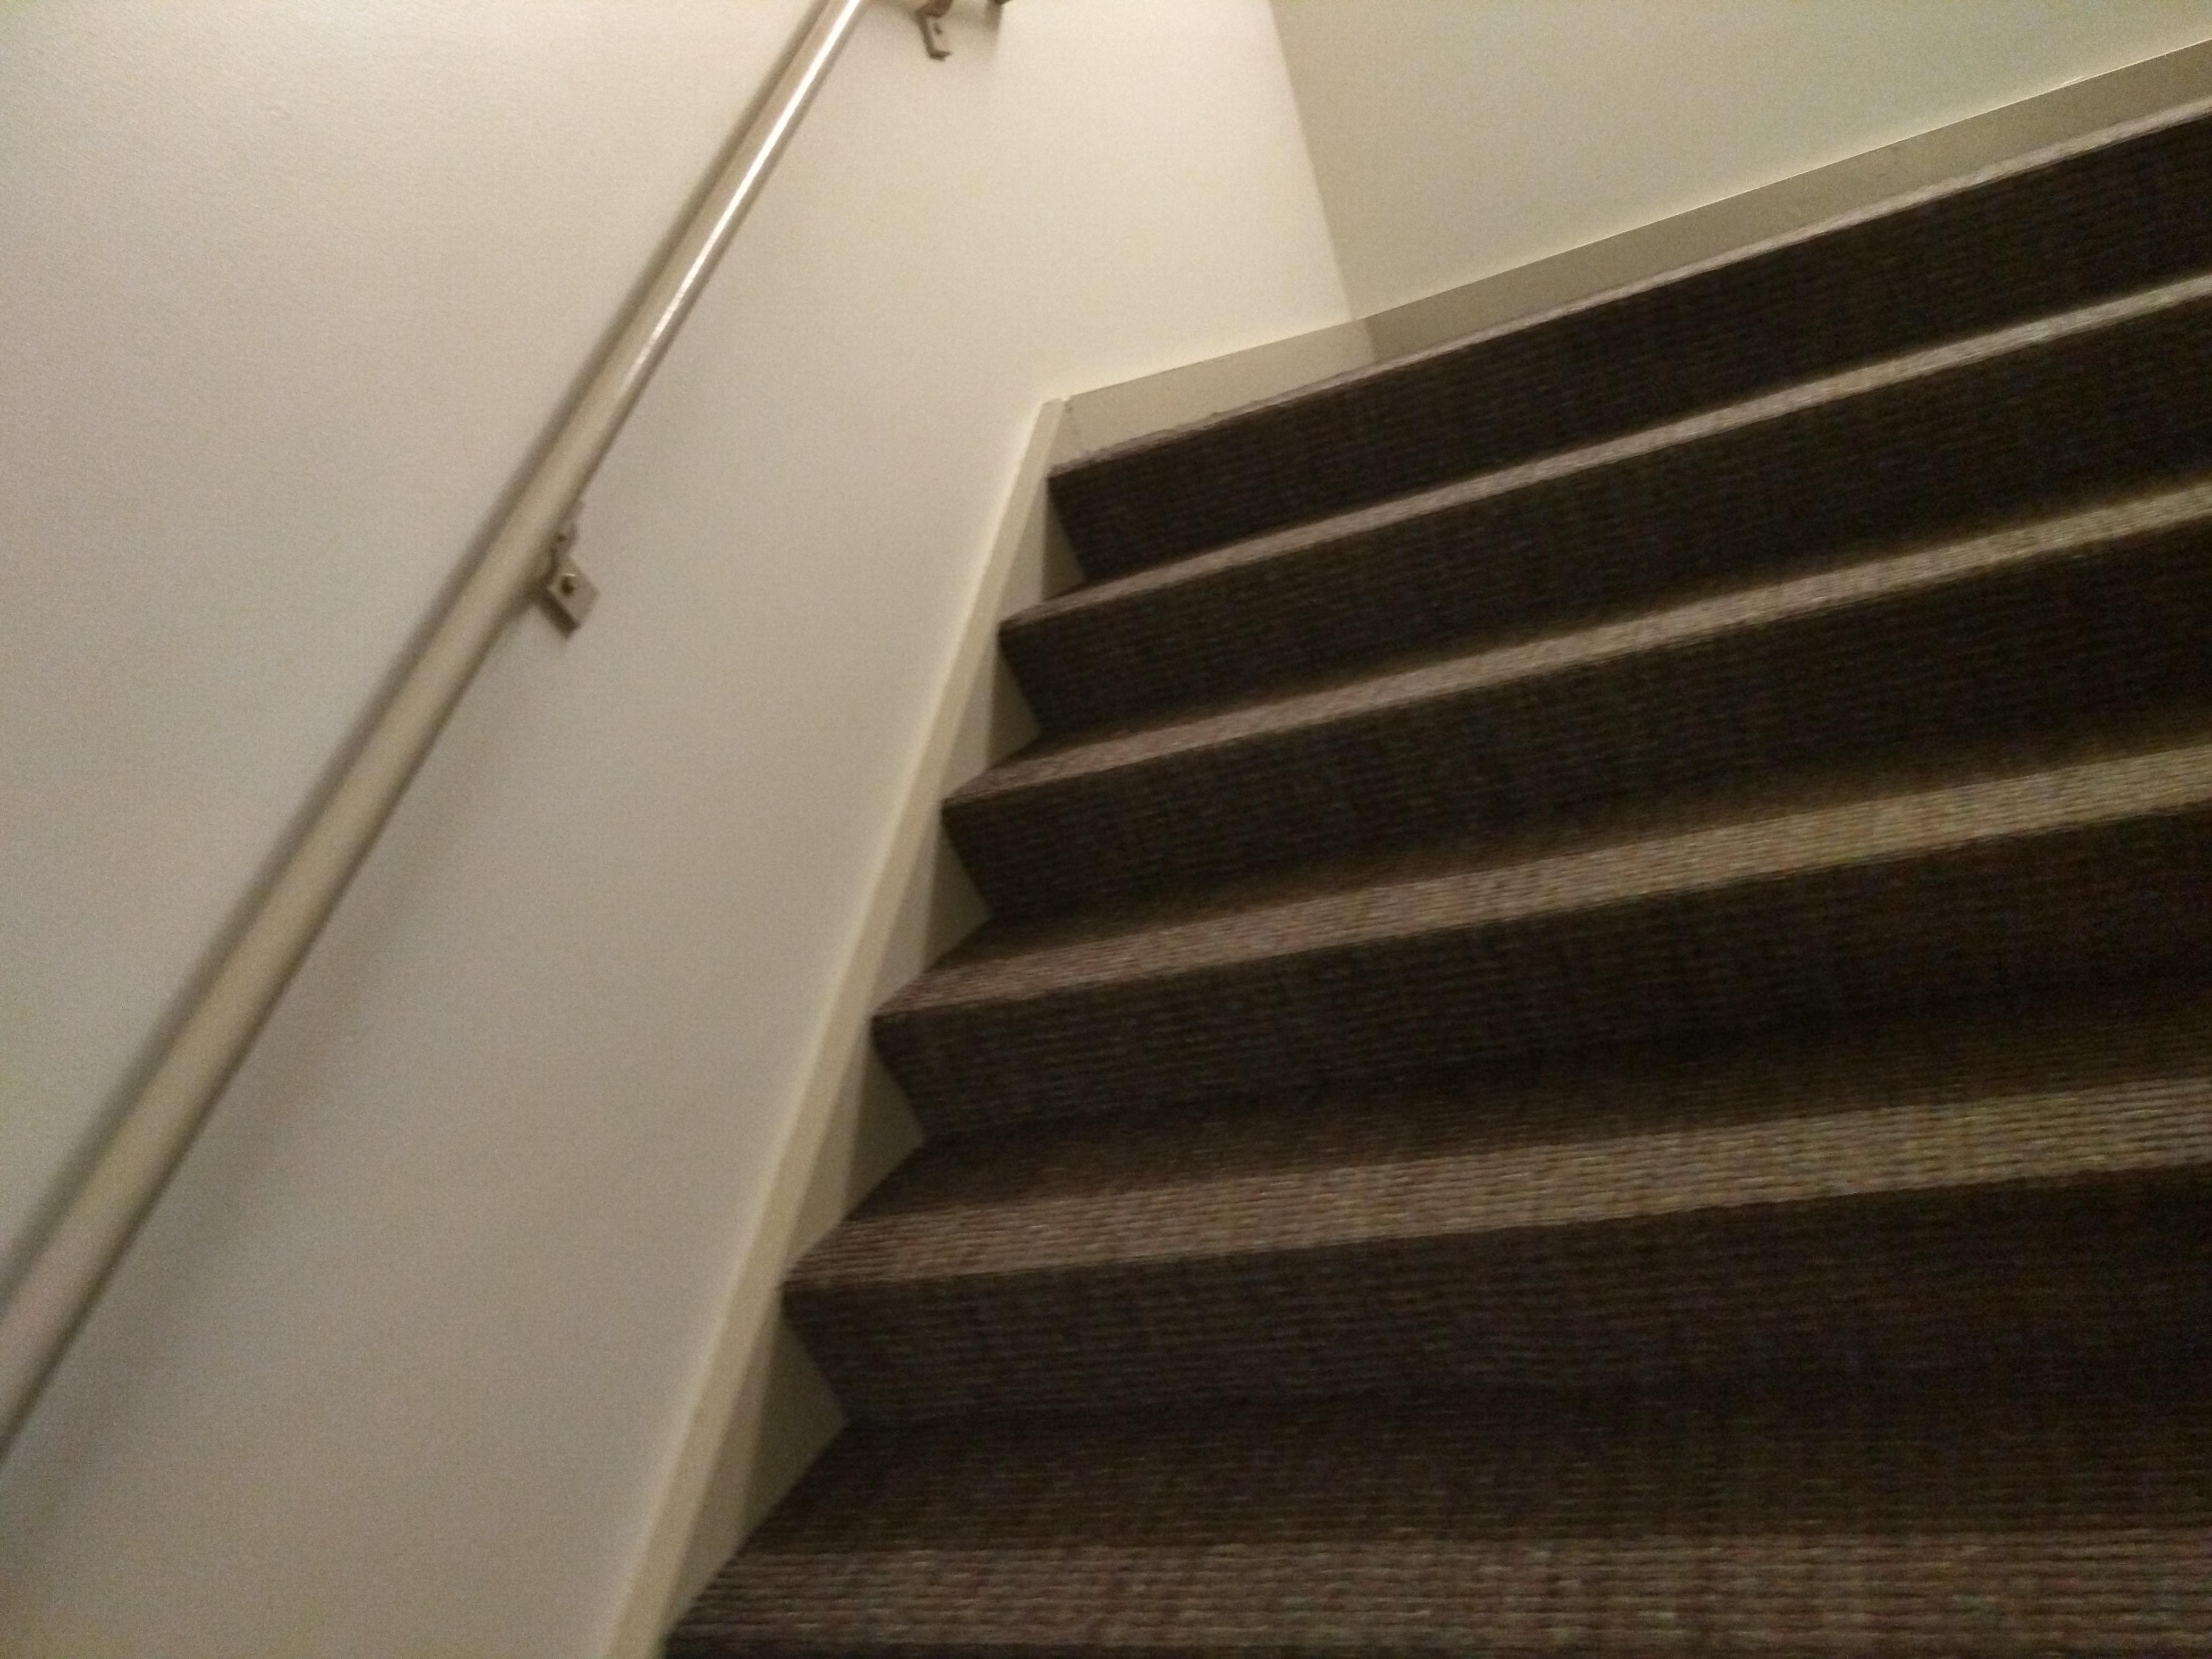stairs_up: (716, 179, 2212, 1338)
